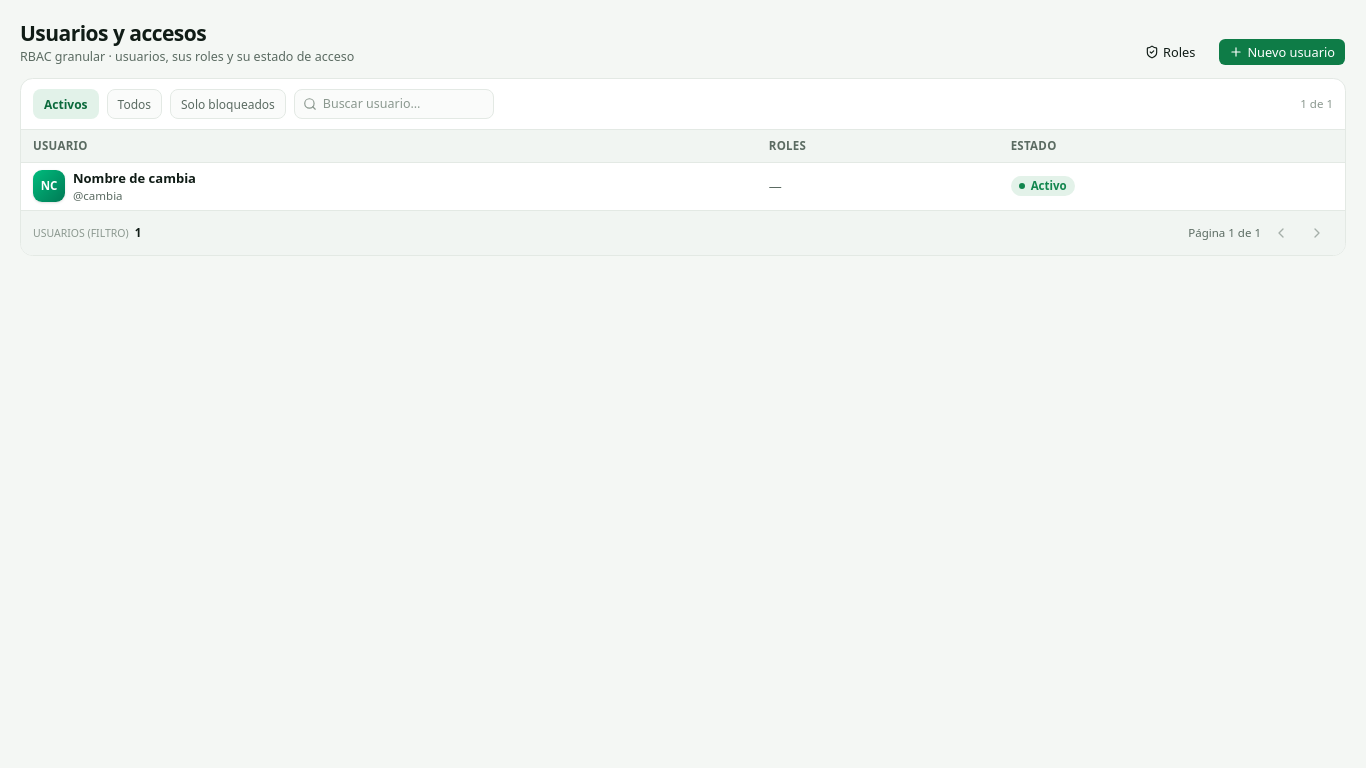
<UsuariosPagina> › abre el diálogo de cambio de contraseña desde las acciones del detalle
Note: "Cambiar contraseña" es una accion extra del detalle: primero se abre el cajón.
Click the row with test id "fila-usuario".
click(49, 186)  # box [21, 162, 1345, 210]
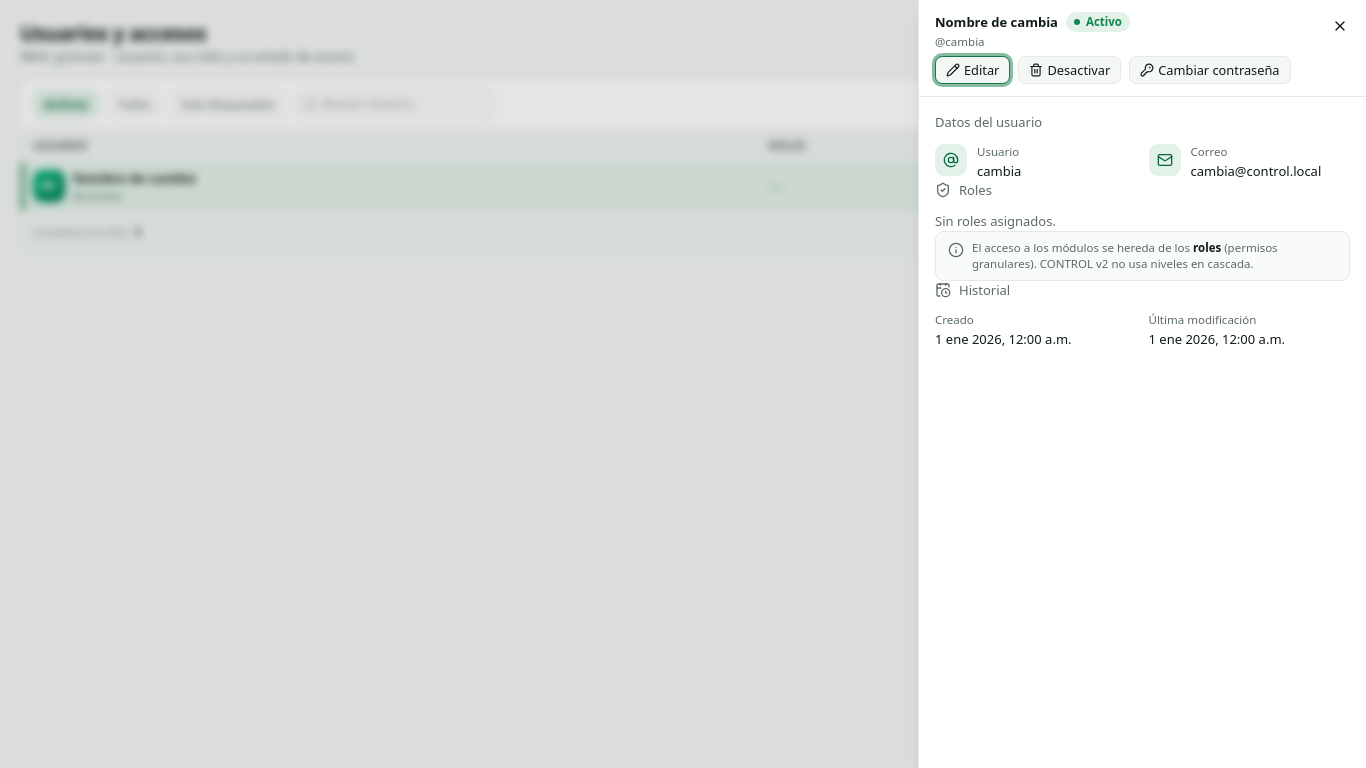
Click the button with test id "contrasena-usuario".
click(1210, 70)  # box [1129, 56, 1291, 84]
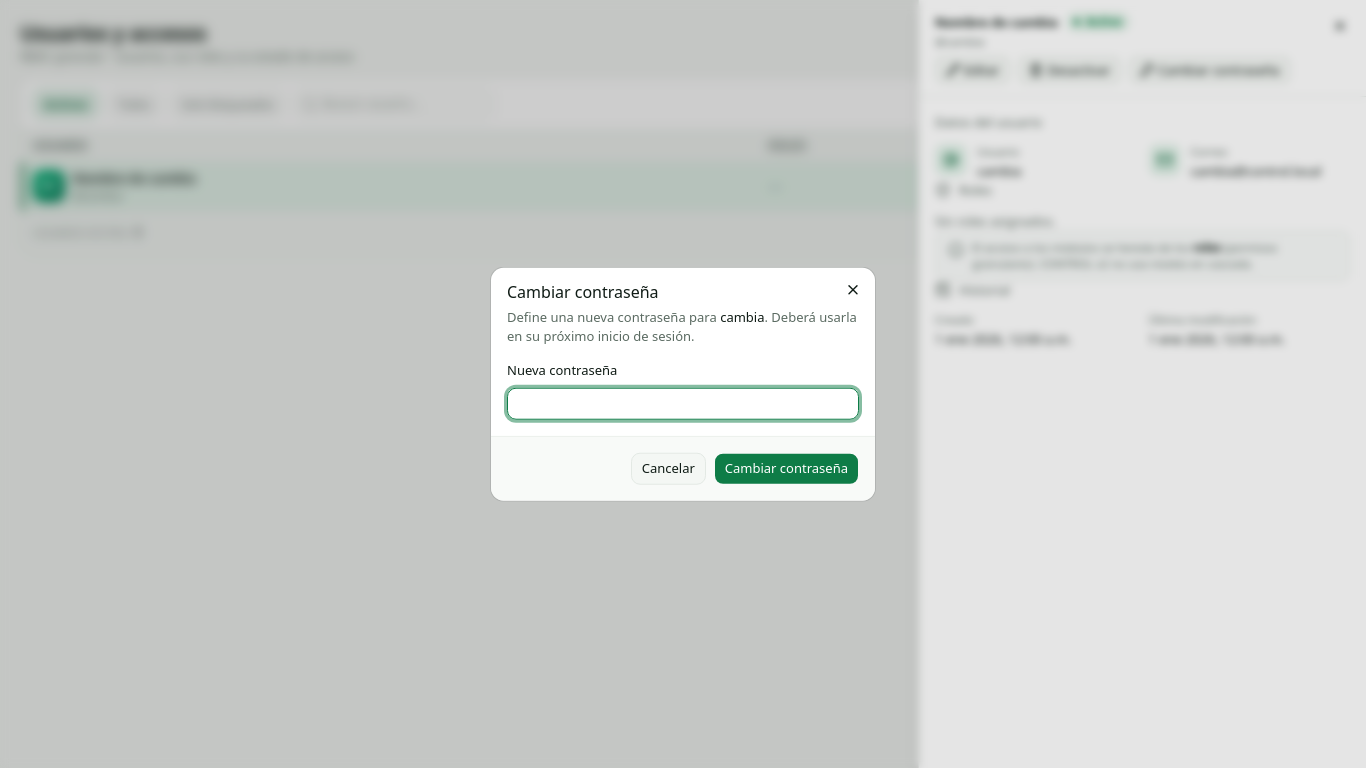
Now the heading "Cambiar contraseña" is shown, box [507, 281, 659, 303]
Now the password field labelled "Nueva contraseña" is shown, box [507, 387, 859, 419]
